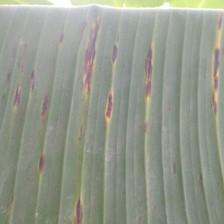sigatoka: (0, 6, 224, 224)
